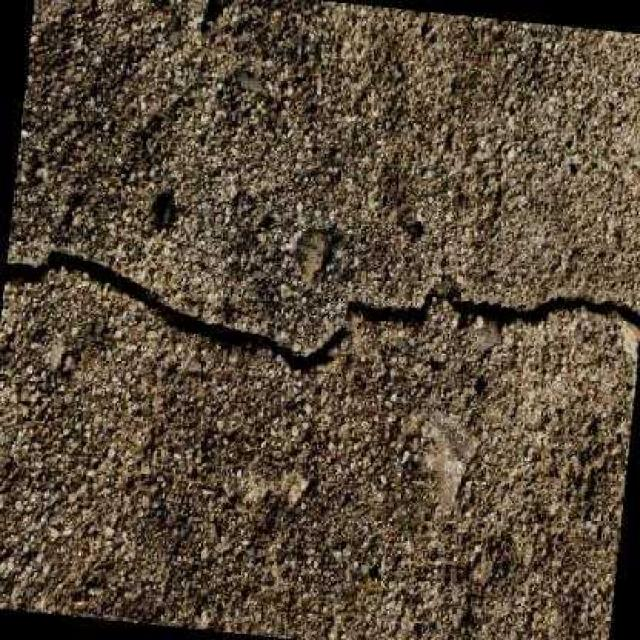D00: (3, 248, 640, 367)
